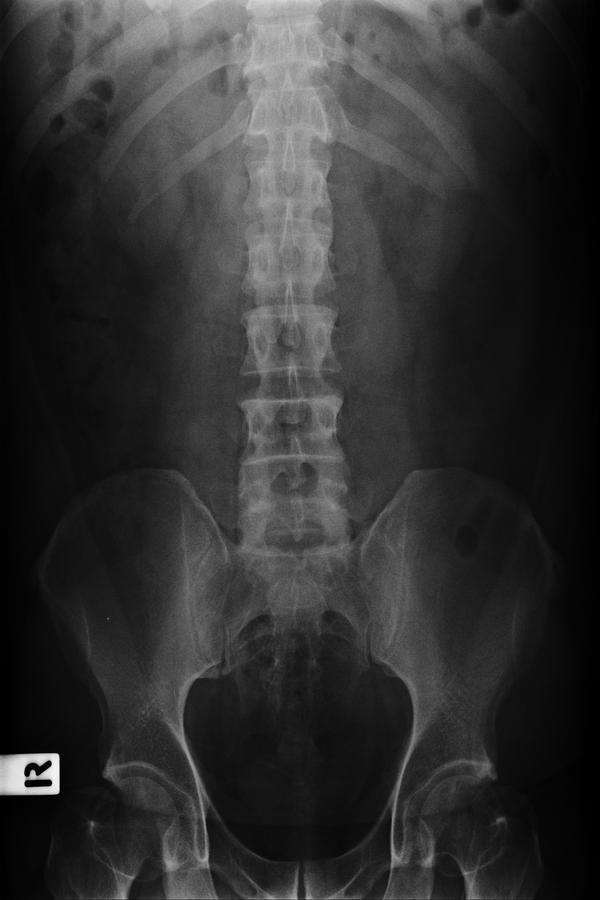lumbar scoliosis: (221, 8, 347, 543)
